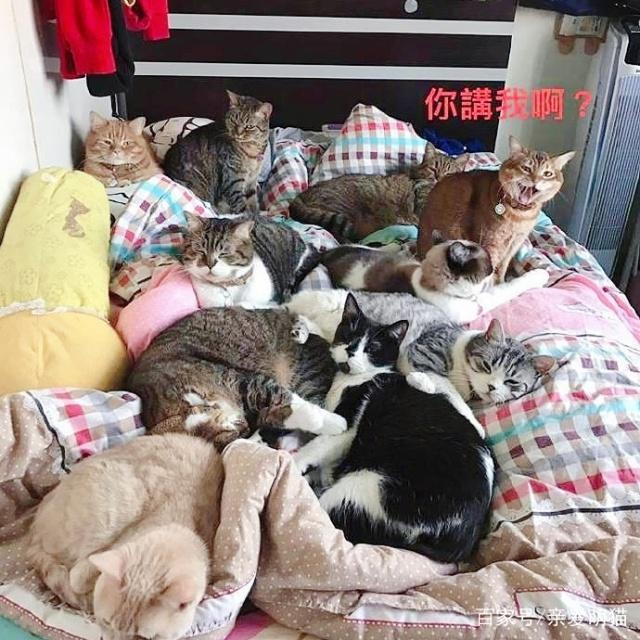cat: (291, 293, 497, 560), (25, 428, 226, 640), (129, 307, 347, 447), (413, 135, 574, 285), (301, 235, 550, 323), (287, 141, 472, 240), (163, 86, 272, 215), (397, 317, 556, 401), (180, 210, 314, 309), (78, 110, 165, 188)
